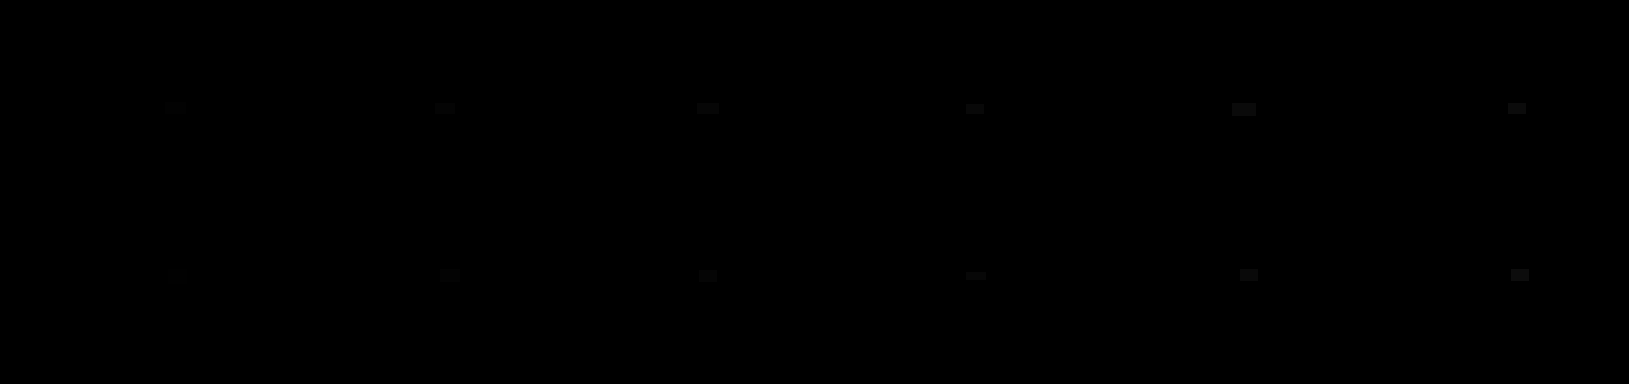light: (1232, 103, 1256, 116), (168, 269, 187, 284), (440, 269, 460, 282), (165, 102, 186, 114), (697, 103, 719, 114), (1511, 269, 1529, 281), (435, 103, 455, 114), (699, 270, 717, 282), (1240, 269, 1258, 281), (1508, 103, 1526, 114), (966, 104, 984, 114), (966, 272, 986, 280)
